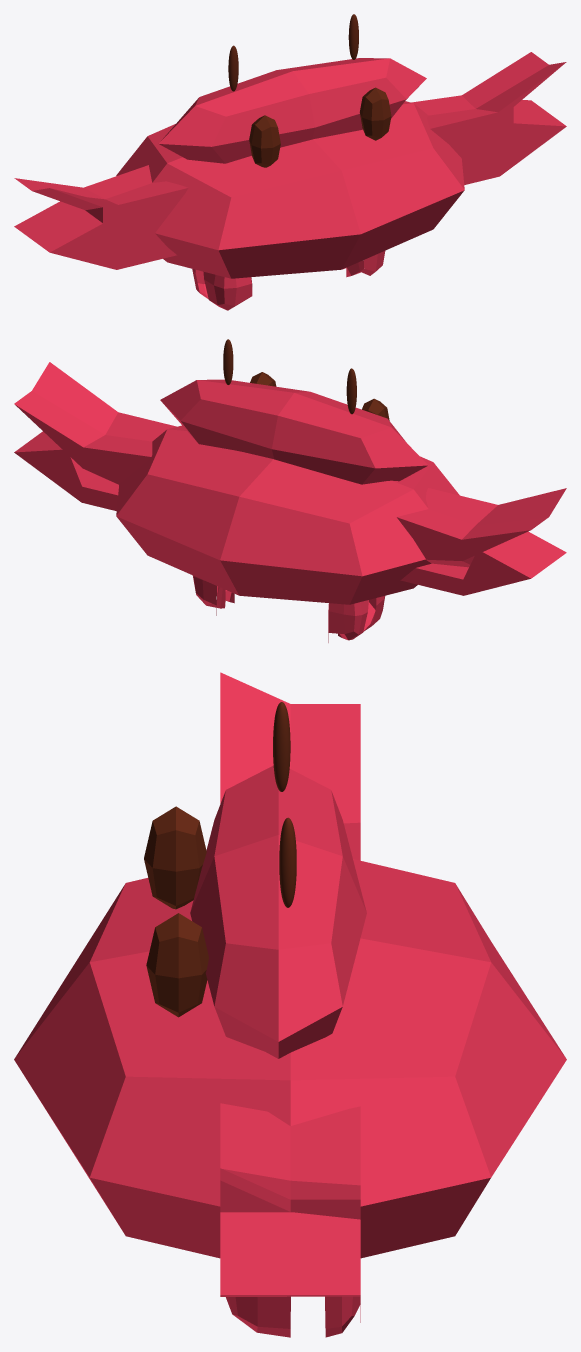
The model's file is crabupdate.fbx.
3 renders of one model, top to bottom at view 1: azimuth 30°, elevation 25°; view 2: azimuth 150°, elevation 25°; view 3: azimuth 270°, elevation 25°, orthographic. The views are drawn at different scales.
Visible parts, largest first — view 1: Cube, Cube.006, Cube.001, Cube.007, Cube.003, Cube.005, Cube.002, Cube.004; view 2: Cube, Cube.006, Cube.001, Cube.007, Cube.002, Cube.004; view 3: Cube, Cube.006, Cube.001, Cube.003, Cube.005, Cube.007, Cube.004, Cube.002.
Boxes of the visible parts, x1=… form: Cube: x1=116, y1=101, x2=464, y2=278; Cube.006: x1=14, y1=52, x2=566, y2=269; Cube.001: x1=158, y1=58, x2=426, y2=163; Cube.007: x1=192, y1=251, x2=385, y2=310; Cube.003: x1=359, y1=87, x2=391, y2=140; Cube.005: x1=249, y1=115, x2=280, y2=167; Cube.002: x1=228, y1=45, x2=238, y2=91; Cube.004: x1=348, y1=14, x2=358, y2=59; Cube: x1=116, y1=425, x2=459, y2=604; Cube.006: x1=14, y1=362, x2=566, y2=595; Cube.001: x1=160, y1=379, x2=428, y2=484; Cube.007: x1=192, y1=575, x2=385, y2=642; Cube.002: x1=346, y1=368, x2=356, y2=414; Cube.004: x1=223, y1=339, x2=233, y2=384; Cube: x1=14, y1=859, x2=566, y2=1258; Cube.006: x1=220, y1=672, x2=360, y2=1296; Cube.001: x1=190, y1=765, x2=366, y2=1058; Cube.003: x1=146, y1=913, x2=208, y2=1017; Cube.005: x1=144, y1=806, x2=206, y2=909; Cube.007: x1=226, y1=1296, x2=360, y2=1337; Cube.004: x1=279, y1=817, x2=296, y2=907; Cube.002: x1=273, y1=702, x2=290, y2=791.
Size of the model in its own units: 1676 by 810 by 790.
